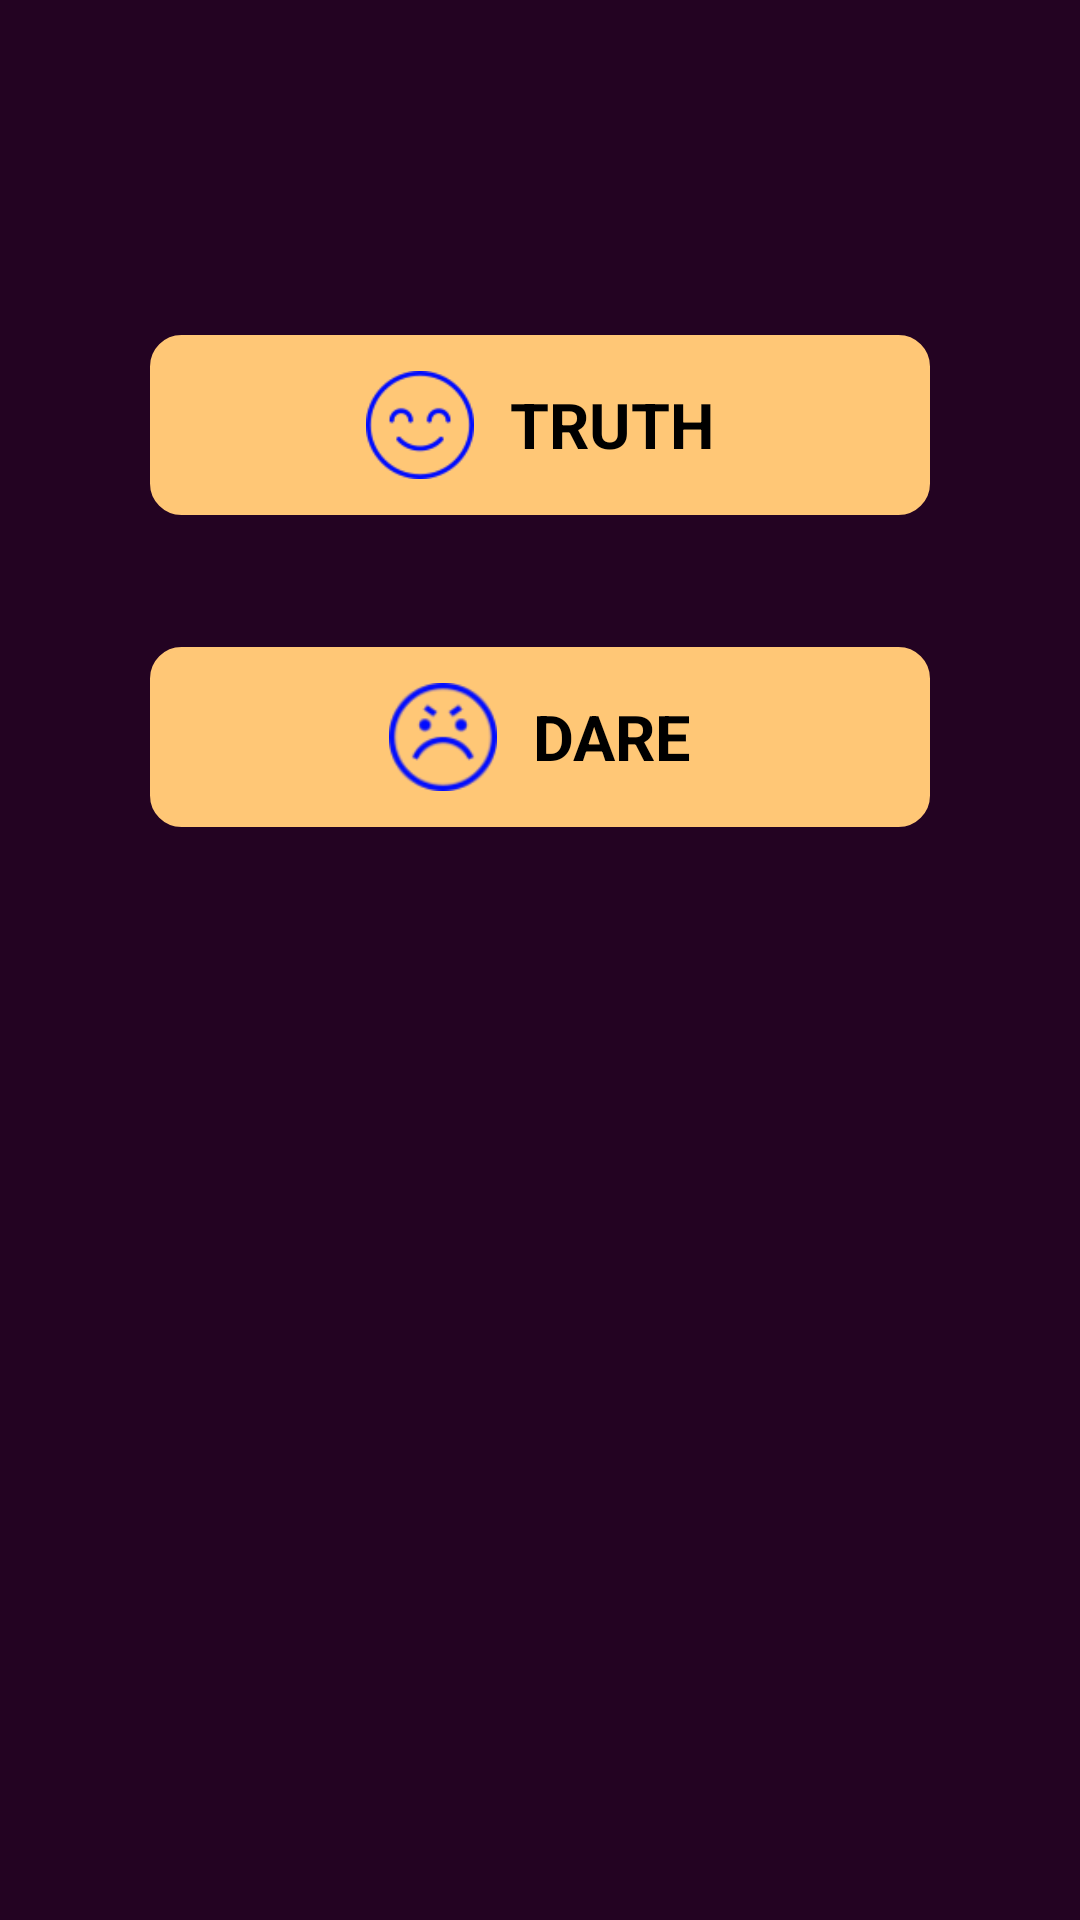

Icon click points for this 1080 × 1920 phone screenshot, format [x,y]:
angry: [443,737]
smile: [420,425]
